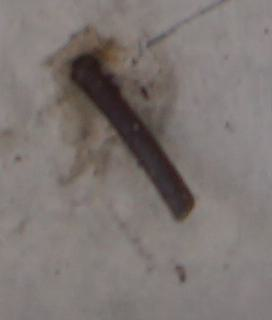Exposed reinforcement: (71, 54, 195, 223)
Spalling: (37, 22, 176, 187)
